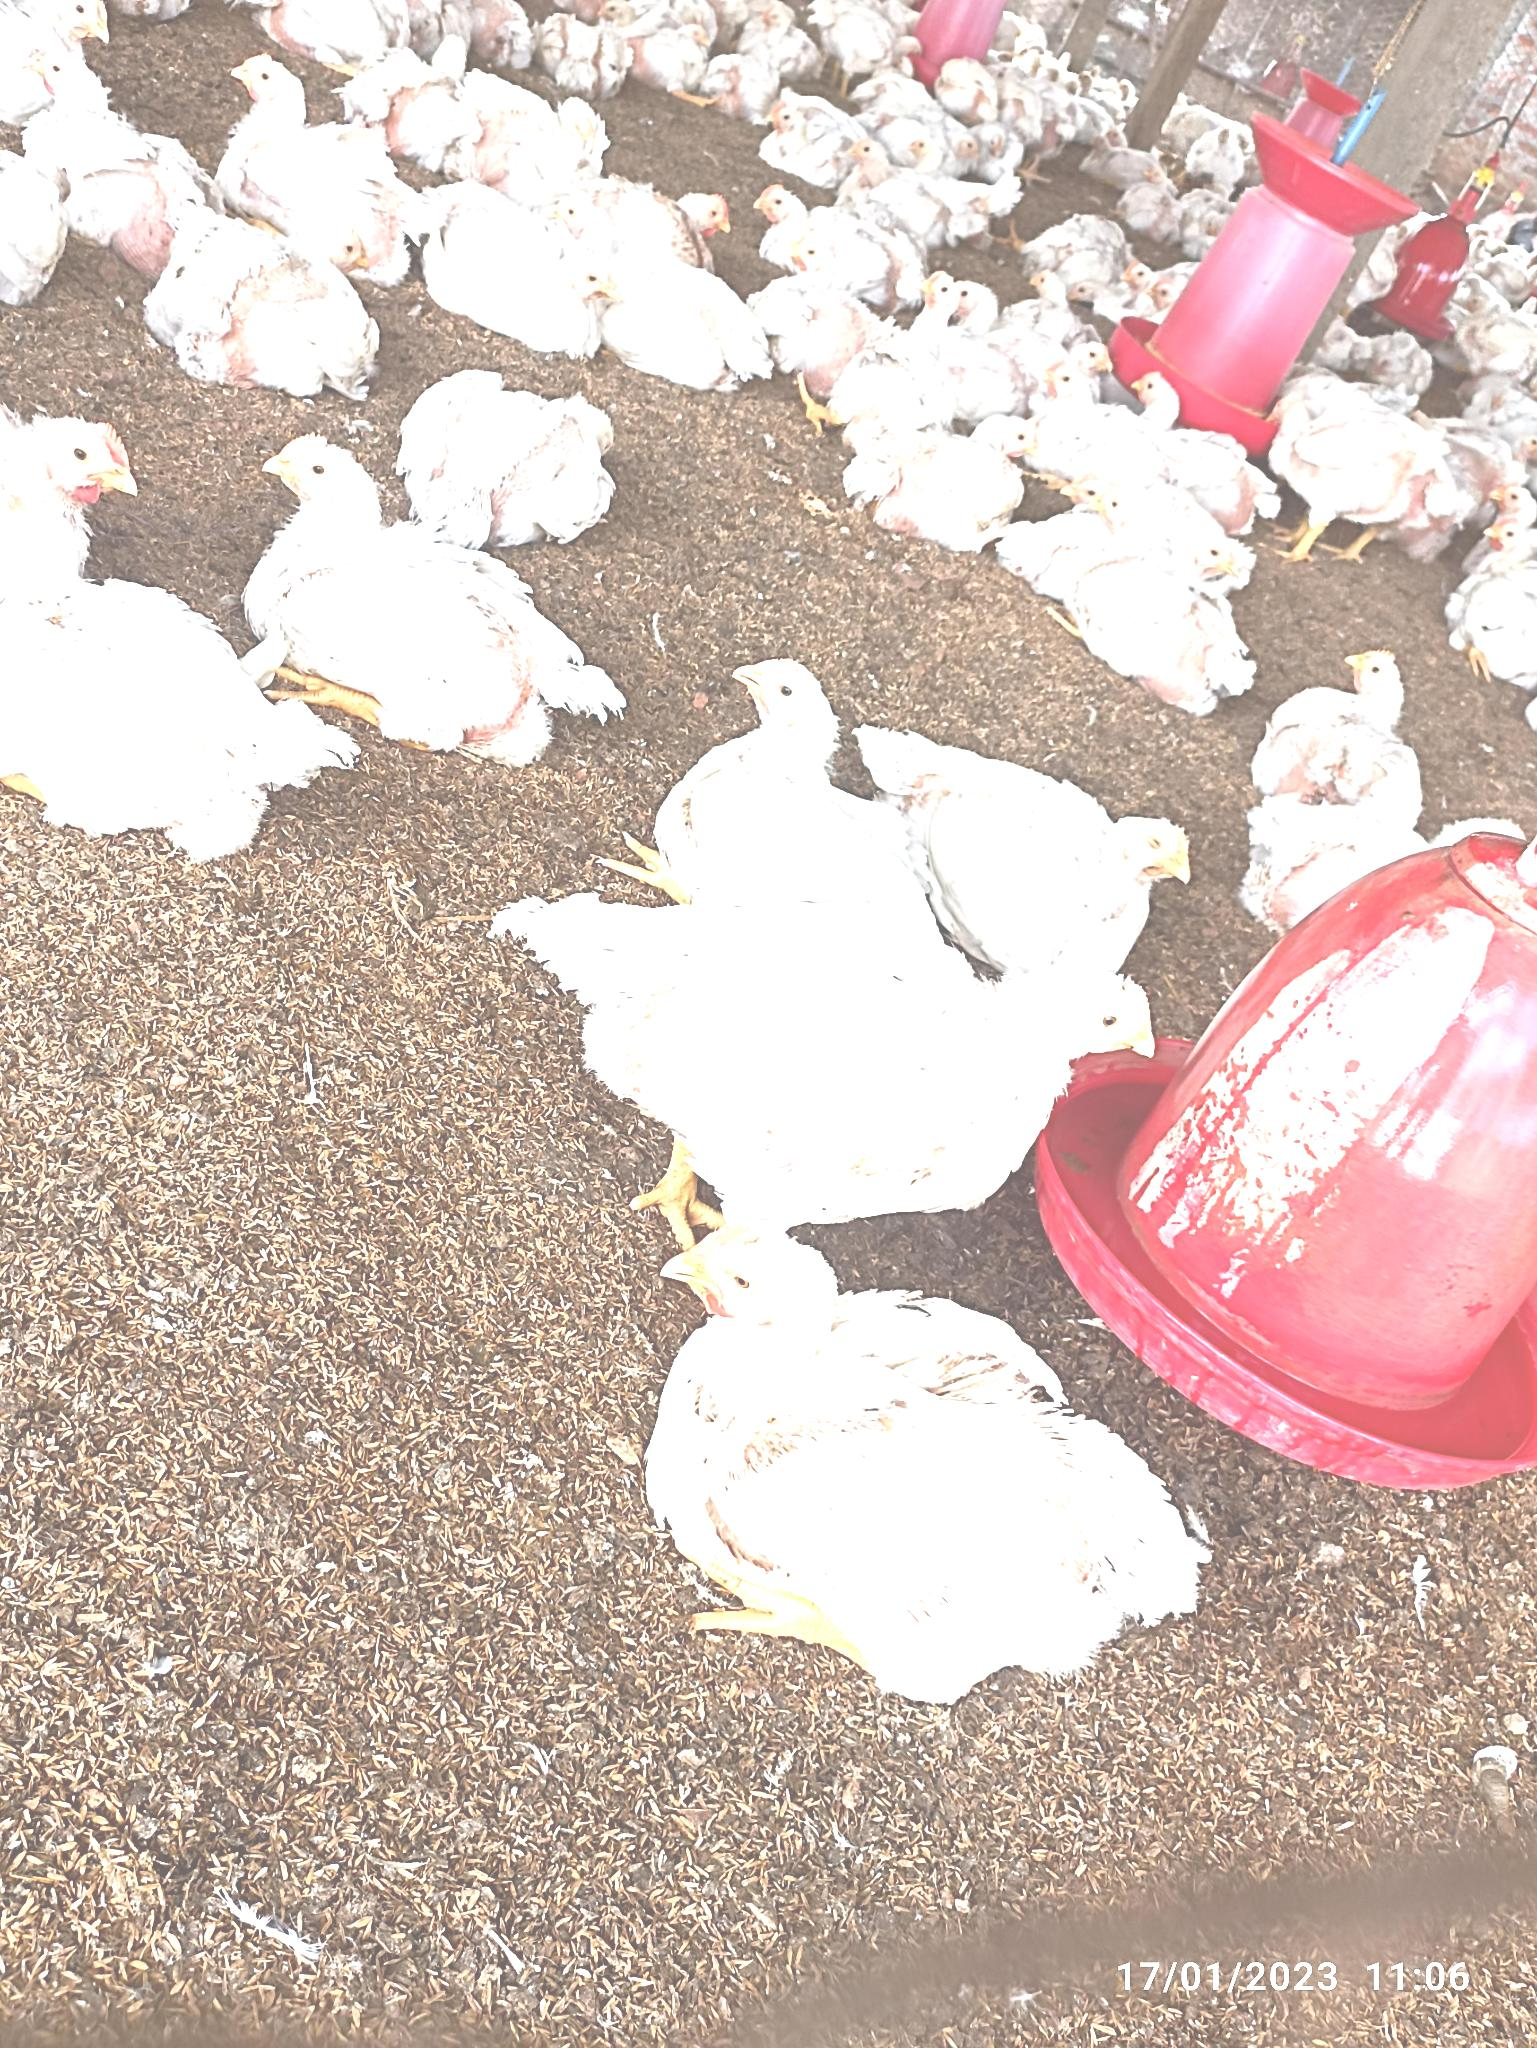Pollos: (652, 1225, 1196, 1667), (512, 884, 1153, 1212), (2, 421, 283, 839), (257, 439, 588, 742), (930, 741, 1187, 960), (668, 657, 915, 875), (160, 205, 370, 412), (407, 366, 631, 545), (220, 48, 410, 255), (1251, 641, 1434, 807), (32, 45, 179, 245), (434, 195, 604, 355), (1292, 358, 1421, 557), (1099, 533, 1250, 692), (865, 416, 1043, 536), (610, 257, 765, 389), (759, 186, 919, 290), (1033, 357, 1171, 476), (596, 186, 728, 249)
